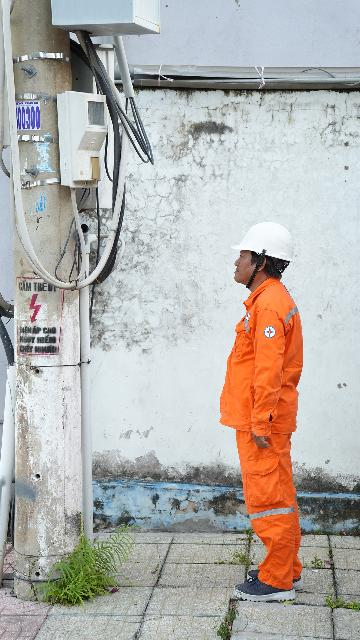helmet: (229, 216, 299, 273)
shoes: (231, 568, 310, 606), (247, 564, 313, 590)
